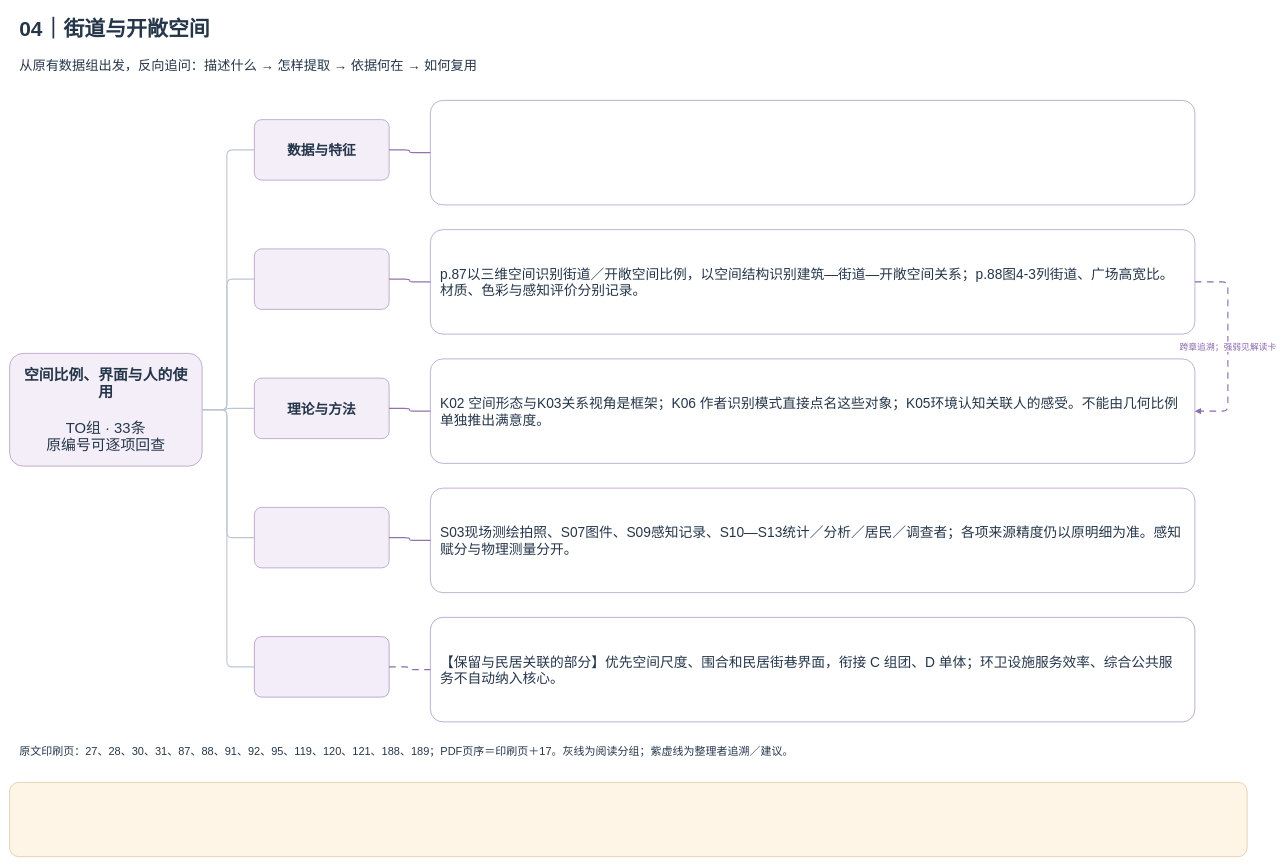
The diagram is 1286 pixels wide and 866 high, and some of its shapes have lost their labels. The shapes that lost their labels are listed below. From the top down, each one's centre as x and y in pixels, then its label:
At point (812, 152): "街道 T01—T19，开敞空间 O01—O14。包括路网、断面、高宽关系、铺装绿化、设施、广场／空地、活动组织与使用频率等；这里保留候选和排除状态。".
At point (321, 278): "识别与整理".
At point (321, 537): "资料从哪里来".
At point (321, 666): "我们怎样复用".
At point (628, 819): "边界提醒 街道断面和开敞空间使用频率在p.91被排除出该轮基础数据，不能当最终统一字段；第六章行为专题又出现活动频率，属不同任务。H/D口径见原明细待核记录。".
